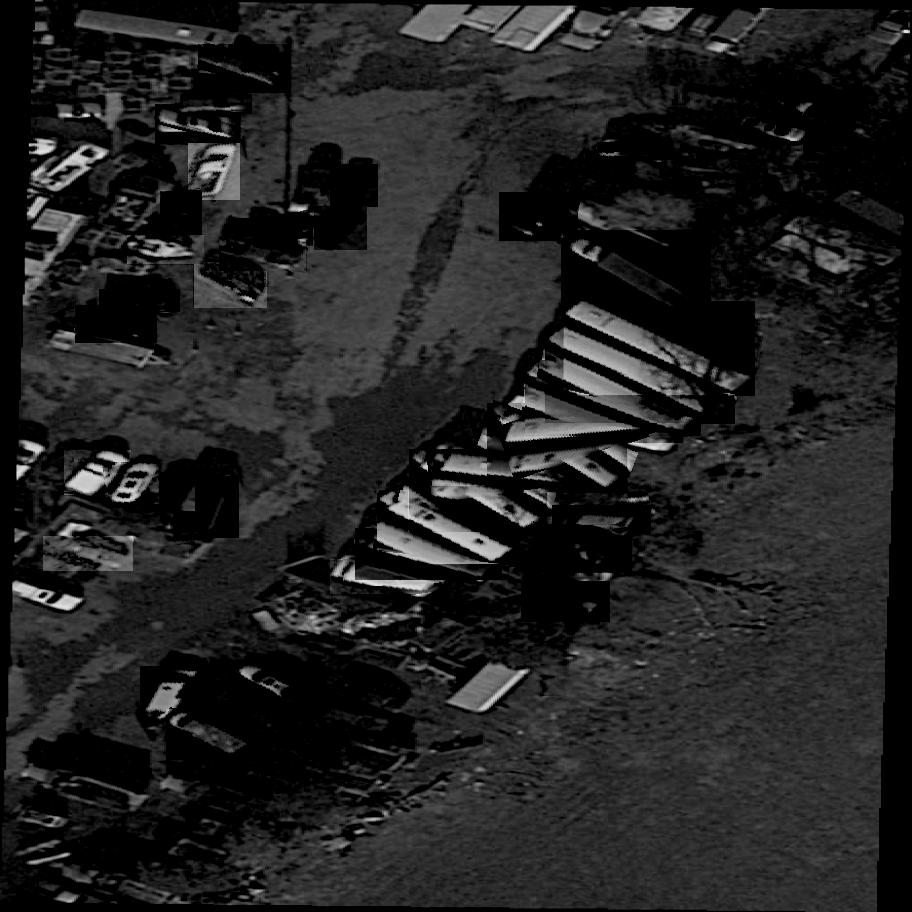large-vehicle: (545, 321, 735, 428), (565, 296, 756, 401), (561, 224, 712, 327), (525, 356, 702, 440), (486, 399, 628, 498), (408, 444, 548, 540), (376, 485, 518, 572), (355, 527, 502, 584), (501, 406, 685, 444), (174, 463, 241, 553), (431, 451, 588, 488), (330, 557, 439, 596)
ship: (128, 234, 205, 266)
small-vehicle: (138, 649, 208, 735), (498, 182, 579, 253), (232, 659, 326, 720), (166, 706, 261, 766), (534, 521, 632, 578), (198, 43, 292, 94), (64, 440, 132, 508), (522, 577, 611, 626), (771, 85, 856, 133), (189, 134, 242, 210), (194, 258, 268, 311), (43, 533, 133, 573), (154, 105, 244, 144), (76, 305, 157, 348), (219, 236, 307, 274), (108, 452, 159, 516), (331, 154, 380, 218), (145, 461, 195, 522), (314, 202, 367, 259), (552, 505, 651, 534), (740, 112, 814, 146), (162, 186, 203, 242), (237, 219, 314, 247), (98, 290, 180, 314), (180, 94, 252, 115), (598, 143, 671, 160)
